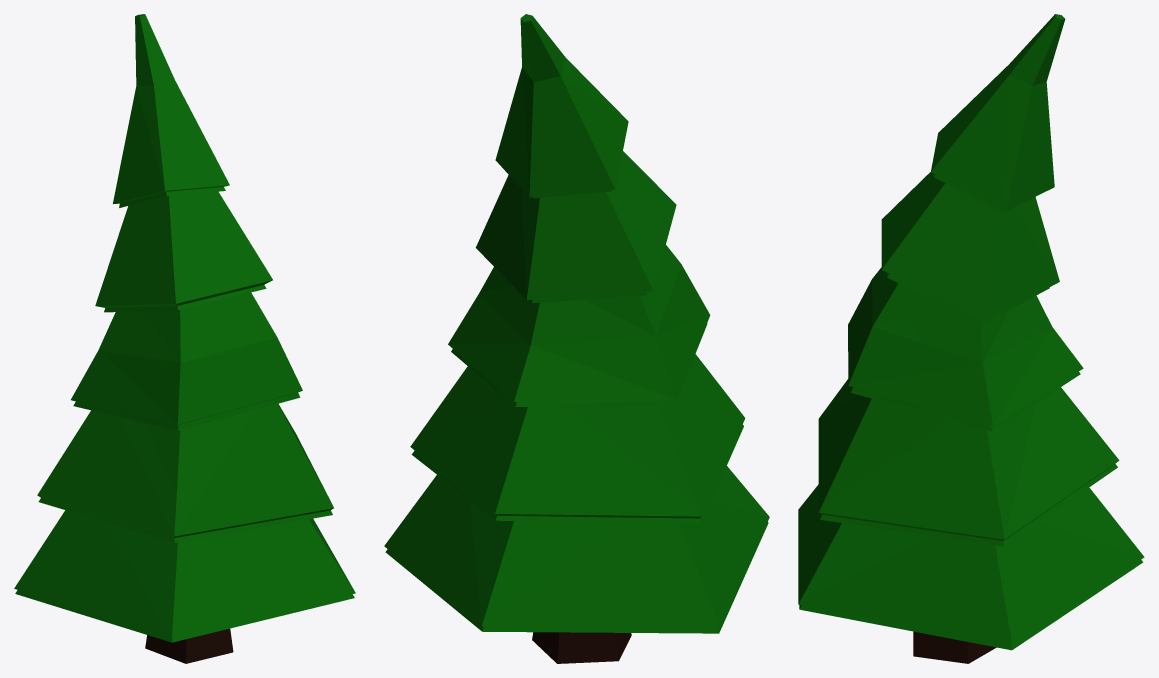
The model's file is PineTree1.obj.
The picture shows the model from 3 angles, left to right: view 1: azimuth 30°, elevation 25°; view 2: azimuth 150°, elevation 25°; view 3: azimuth 270°, elevation 25°; orthographic projection. The views are drawn at different scales.
Visible parts, largest first — view 1: Cylinder; view 2: Cylinder; view 3: Cylinder.
Part boxes in pixels (<box>): Cylinder: <box>14,14,355,663</box>; Cylinder: <box>384,14,769,663</box>; Cylinder: <box>798,14,1144,663</box>.
Size of the model in its own units: 2.04 by 3.89 by 1.94.
1 material, 1 textured.
